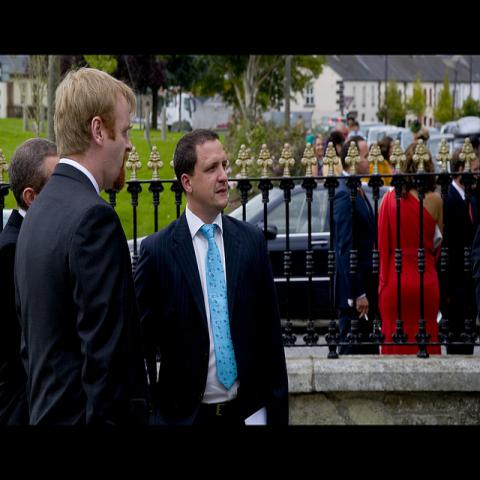car: (227, 181, 335, 322), (424, 135, 455, 173), (360, 120, 386, 139)
